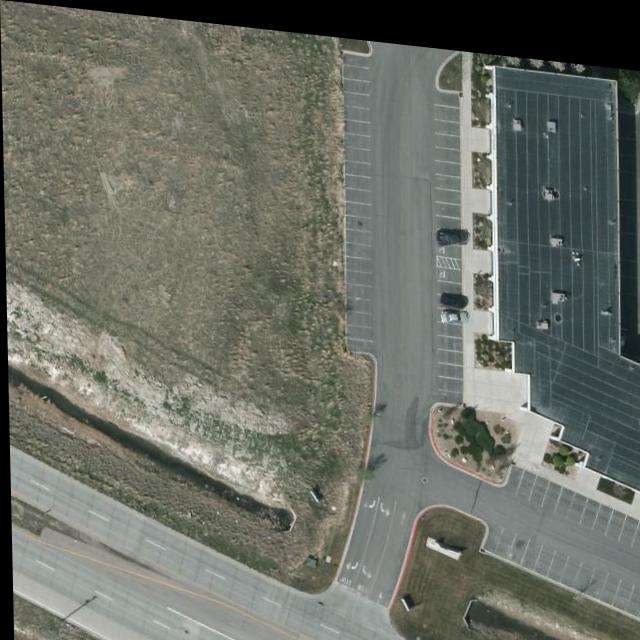vehicle: (435, 218, 470, 238), (438, 299, 469, 315), (439, 283, 465, 301)
